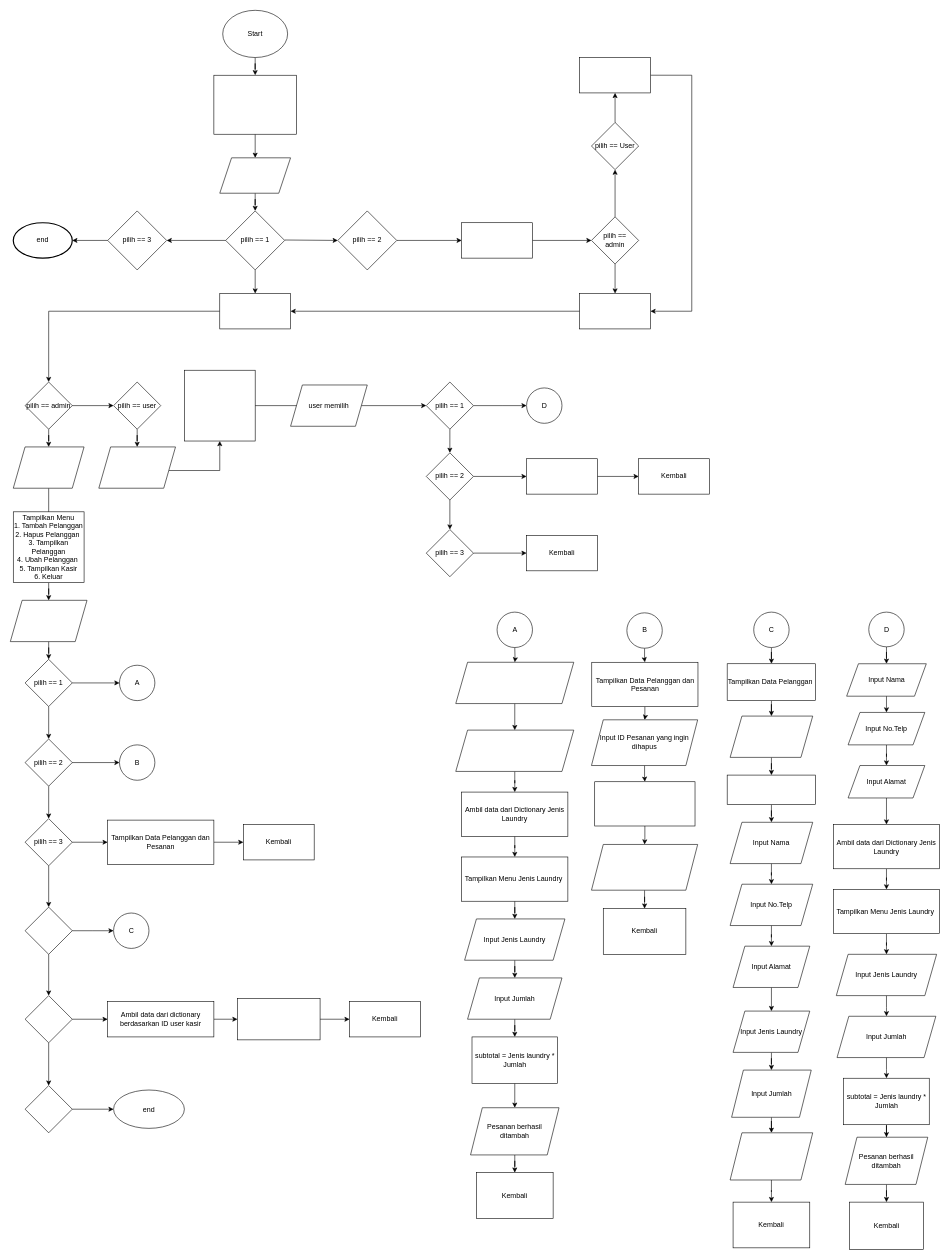
Some shapes in this 950 by 1260 pixel diagram are drawn without their labels. Each missing label, with the centre of its shape:
admin memilih: pixel 48 621
ID = ID - 1: pixel 644 803
Input Data Pelanggan: pixel 514 683
Input Nama, No.Telp, Alamat: pixel 514 750
Input No Pesanan yang ingin diubah: pixel 771 736
Login: pixel 255 311
Masukkan Username dan password admin: pixel 48 467
Masukkan Username dan password user: pixel 137 467
pengguna memilih: pixel 255 175
Pesanan berhasil dihapus: pixel 644 867
Pesanan berhasil diubah: pixel 771 1156
pilih == 4: pixel 48 930
pilih == 5: pixel 48 1019
pilih == 6: pixel 48 1109
Register: pixel 496 240
Register admin: pixel 614 311
Register User: pixel 614 75
Tampilkan Data lama dan baru: pixel 771 789
Tampilkan data user kasir dalam bentuk tabel: pixel 278 1019
Tampilkan isi data pelanggan,pesanan dalam bentuk tabel: pixel 561 476
Tampilkan menu 1. Login sebagai admin 2. Login sebagai User 3. Exit: pixel 254 104
Tampilkan Menu: 1. Tambah Pesanan 2. Tampilkan Pesanan 3. Logout: pixel 219 405
